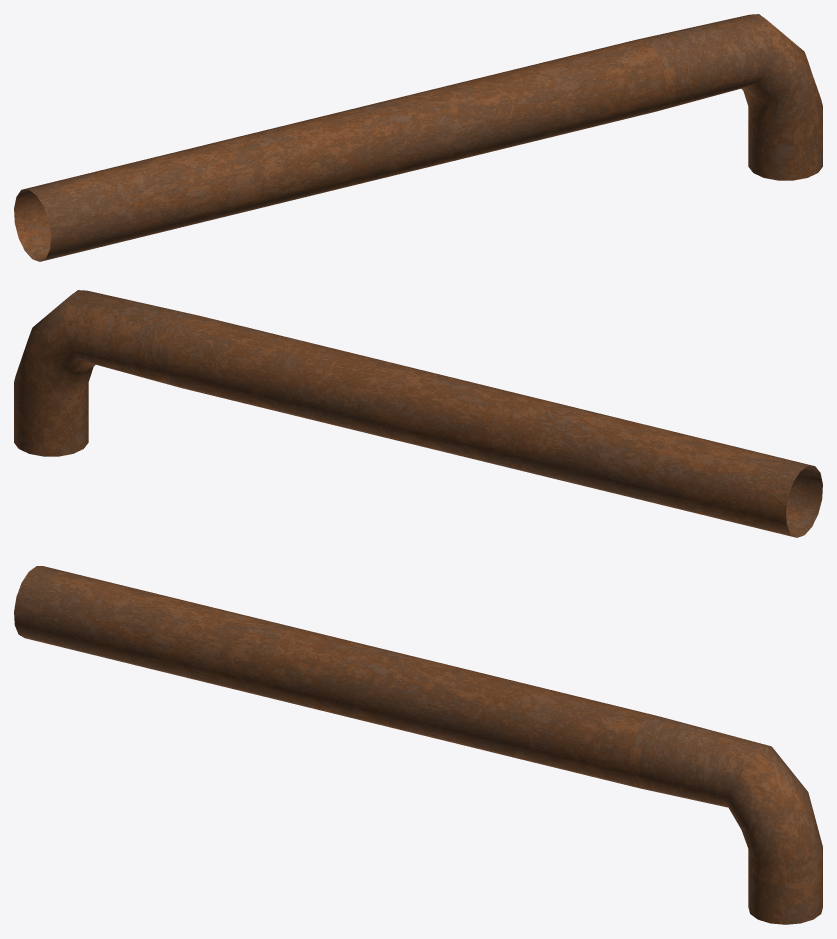
File: WholePipewCurve.fbx
3 renders of one model, top to bottom at view 1: azimuth 30°, elevation 25°; view 2: azimuth 150°, elevation 25°; view 3: azimuth 330°, elevation 25°, orthographic.
Parts seen in each view (by area): view 1: WholePipe_wCurve; view 2: WholePipe_wCurve; view 3: WholePipe_wCurve.
Part boxes in pixels (box(x1,y1,x2,y2)): WholePipe_wCurve: box(14, 14, 822, 261); WholePipe_wCurve: box(14, 290, 822, 537); WholePipe_wCurve: box(14, 566, 822, 924).
Bounding box in the file's own units: 255 × 48.65 × 23.98.
